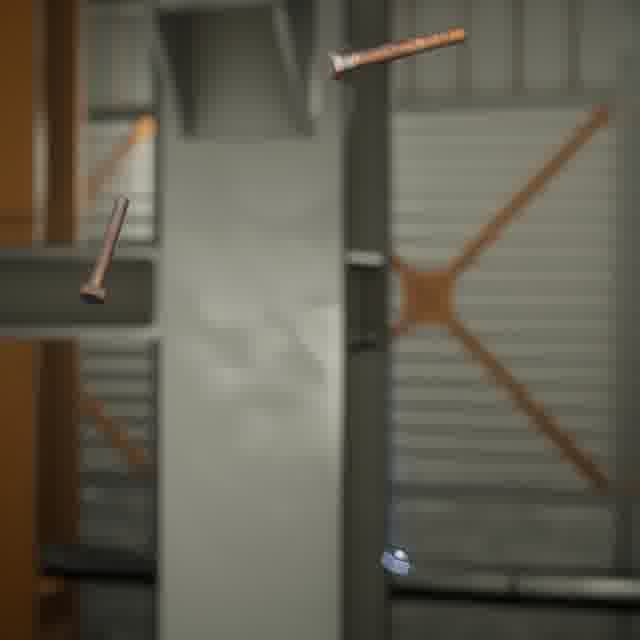bolt: (318, 22, 470, 85), (75, 190, 133, 309)
nut: (375, 541, 417, 579)
